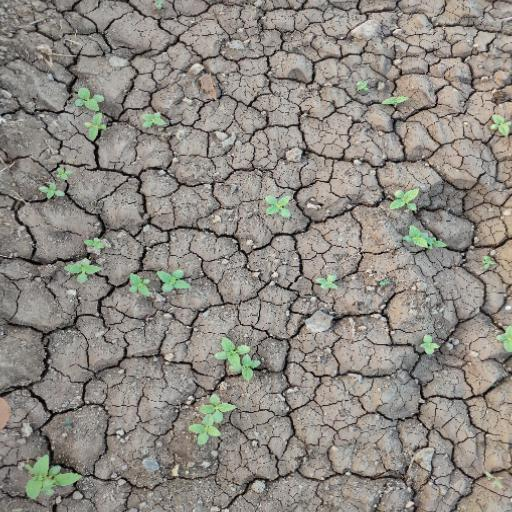crop: (170, 392, 251, 452), (13, 447, 86, 507), (120, 265, 194, 313), (57, 232, 115, 288), (210, 335, 271, 386), (68, 82, 114, 141), (382, 176, 427, 218), (34, 161, 73, 204), (253, 188, 297, 222), (401, 223, 442, 255), (308, 265, 342, 296), (415, 332, 447, 364), (133, 104, 168, 132)
